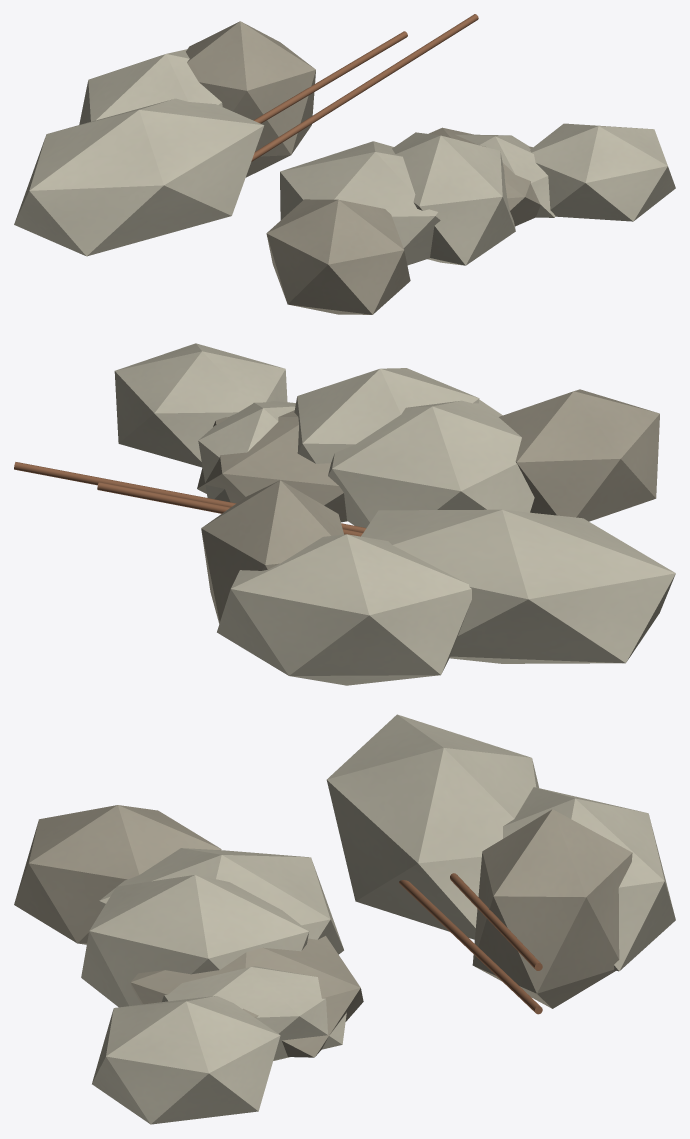
Rendered from Rubble_Cluster_1.glb.
3 views of the same model, one above another, from view 1: azimuth 30°, elevation 25°; view 2: azimuth 150°, elevation 25°; view 3: azimuth 270°, elevation 25° (orthographic). The views are drawn at different scales.
Visible parts, largest first — view 1: Rubble_Cluster_1; view 2: Rubble_Cluster_1; view 3: Rubble_Cluster_1.
Boxes of the visible parts, <box> form: Rubble_Cluster_1: <box>14,14,675,314</box>; Rubble_Cluster_1: <box>14,343,675,685</box>; Rubble_Cluster_1: <box>14,714,675,1124</box>.
Size of the model in its own units: 2.34 by 0.6467 by 1.94.
3 materials, 3 textured.
